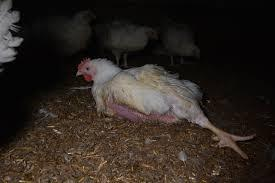AbNormal: (72, 45, 273, 165)
